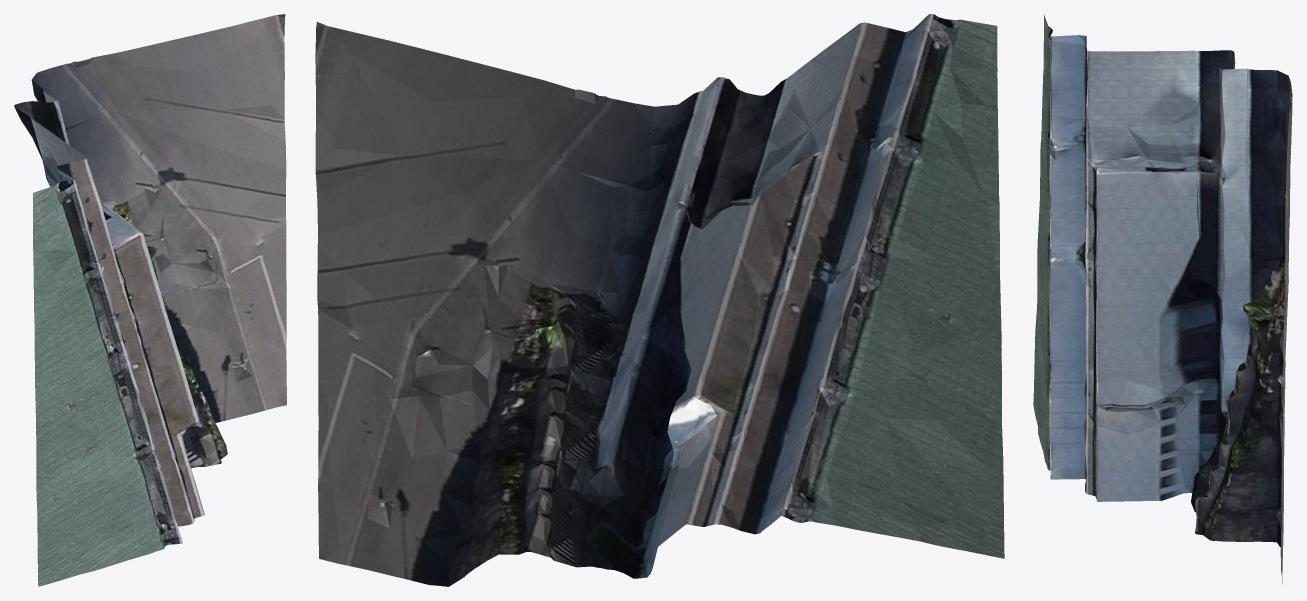
File: Tile_+032_+023_L20_0000330.obj
The picture shows the model from 3 angles, left to right: view 1: azimuth 30°, elevation 25°; view 2: azimuth 150°, elevation 25°; view 3: azimuth 270°, elevation 25°; orthographic projection. The views are drawn at different scales.
Size of the model in its own units: 31.5 by 31.5 by 18.94.
Materials: 1 (1 with a texture image).
